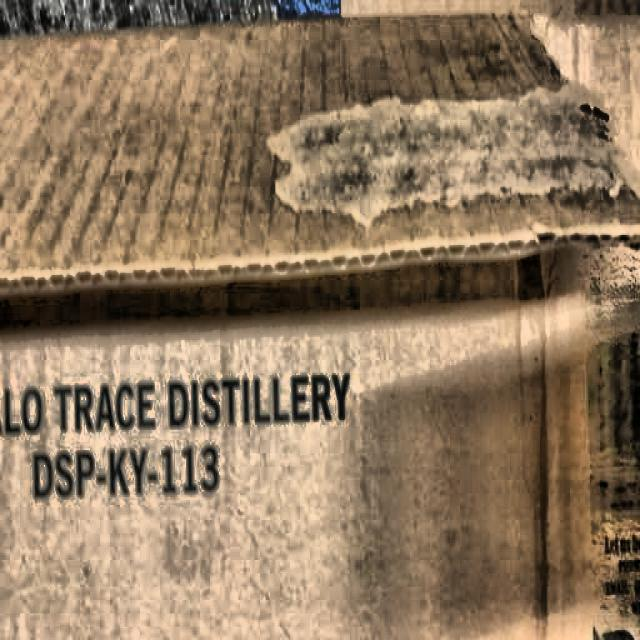cardboard: (6, 33, 631, 331)
